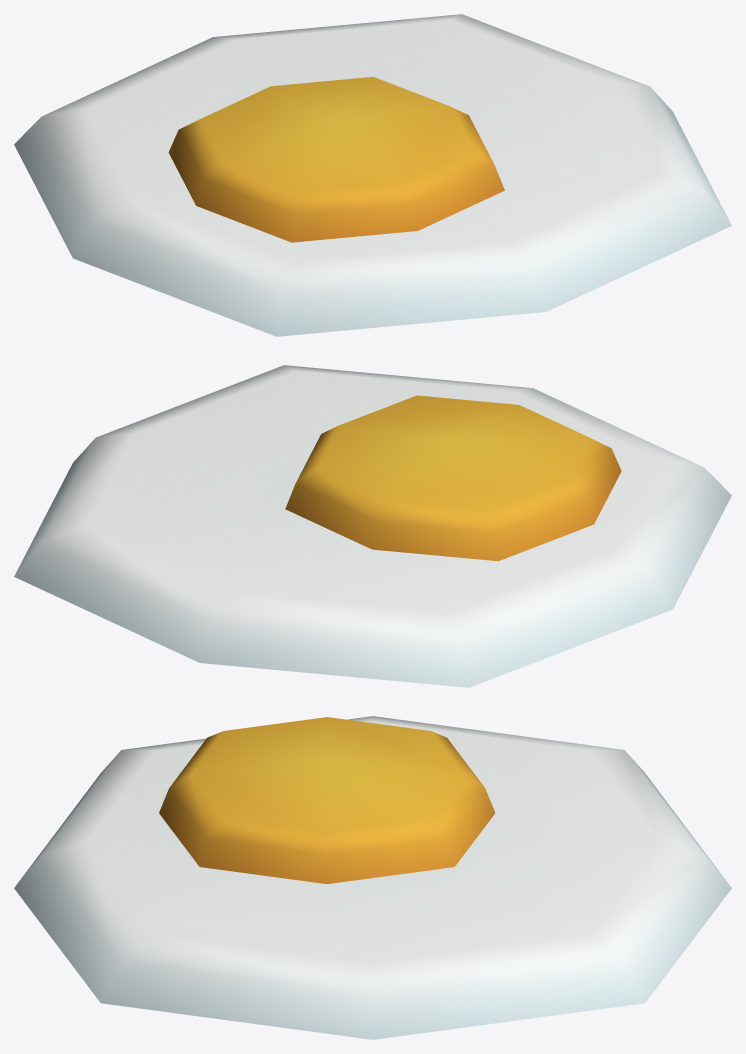
The model's file is egg_sunny_side.fbx.
3 views of the same model, one above another, from view 1: azimuth 30°, elevation 25°; view 2: azimuth 150°, elevation 25°; view 3: azimuth 270°, elevation 25° (orthographic). The views are drawn at different scales.
Visible parts, largest first — view 1: egg_sunny_side; view 2: egg_sunny_side; view 3: egg_sunny_side.
Boxes of the visible parts, box(x1,y1,x2,y2) form: egg_sunny_side: box(14, 14, 731, 336); egg_sunny_side: box(14, 365, 731, 687); egg_sunny_side: box(14, 716, 731, 1039).
Size of the model in its own units: 32.81 by 4.96 by 32.81.
